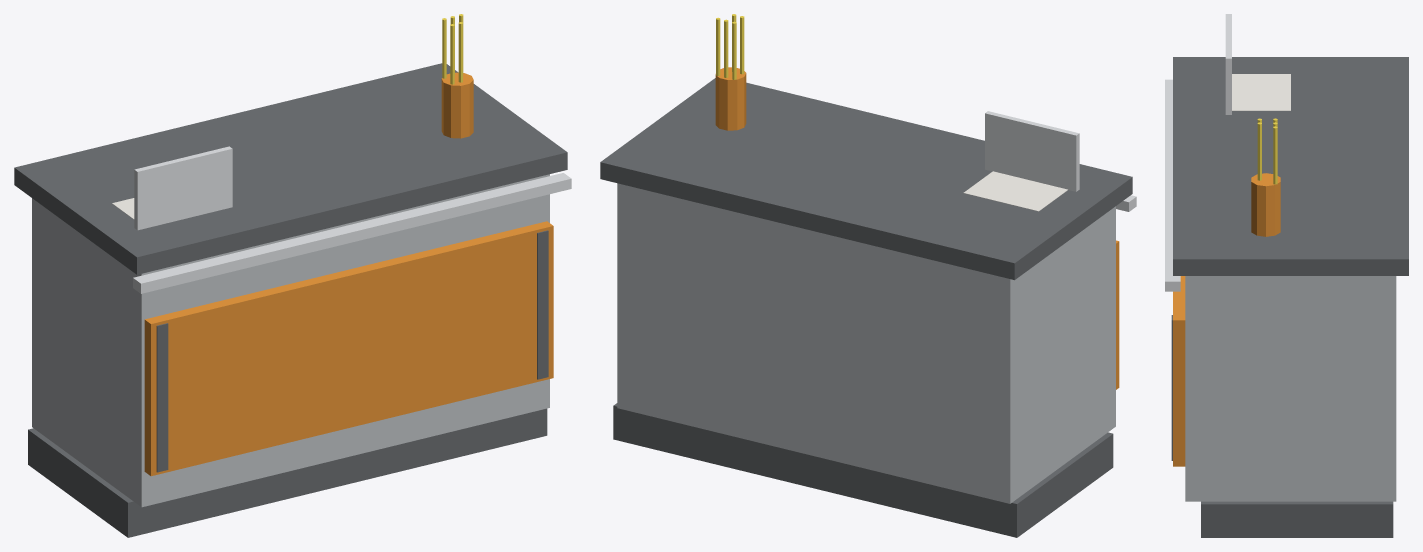
The model's file is tool-hire-depot-and-plant-yard-tool-hire-depot-and-pla-6bed6935__35297.glb.
3 renders of one model, left to right at view 1: azimuth 30°, elevation 25°; view 2: azimuth 150°, elevation 25°; view 3: azimuth 270°, elevation 25°, orthographic. The views are drawn at different scales.
Parts seen in each view (by area): view 1: tool-hire-depot-and-plant-yard-trade-counter-run-module; view 2: tool-hire-depot-and-plant-yard-trade-counter-run-module; view 3: tool-hire-depot-and-plant-yard-trade-counter-run-module.
Part boxes in pixels (x1,y1,x2,y2): tool-hire-depot-and-plant-yard-trade-counter-run-module: (14,14,571,537); tool-hire-depot-and-plant-yard-trade-counter-run-module: (600,14,1136,537); tool-hire-depot-and-plant-yard-trade-counter-run-module: (1165,14,1408,537).
Bounding box in the file's own units: 1.54 × 1.38 × 0.785.
